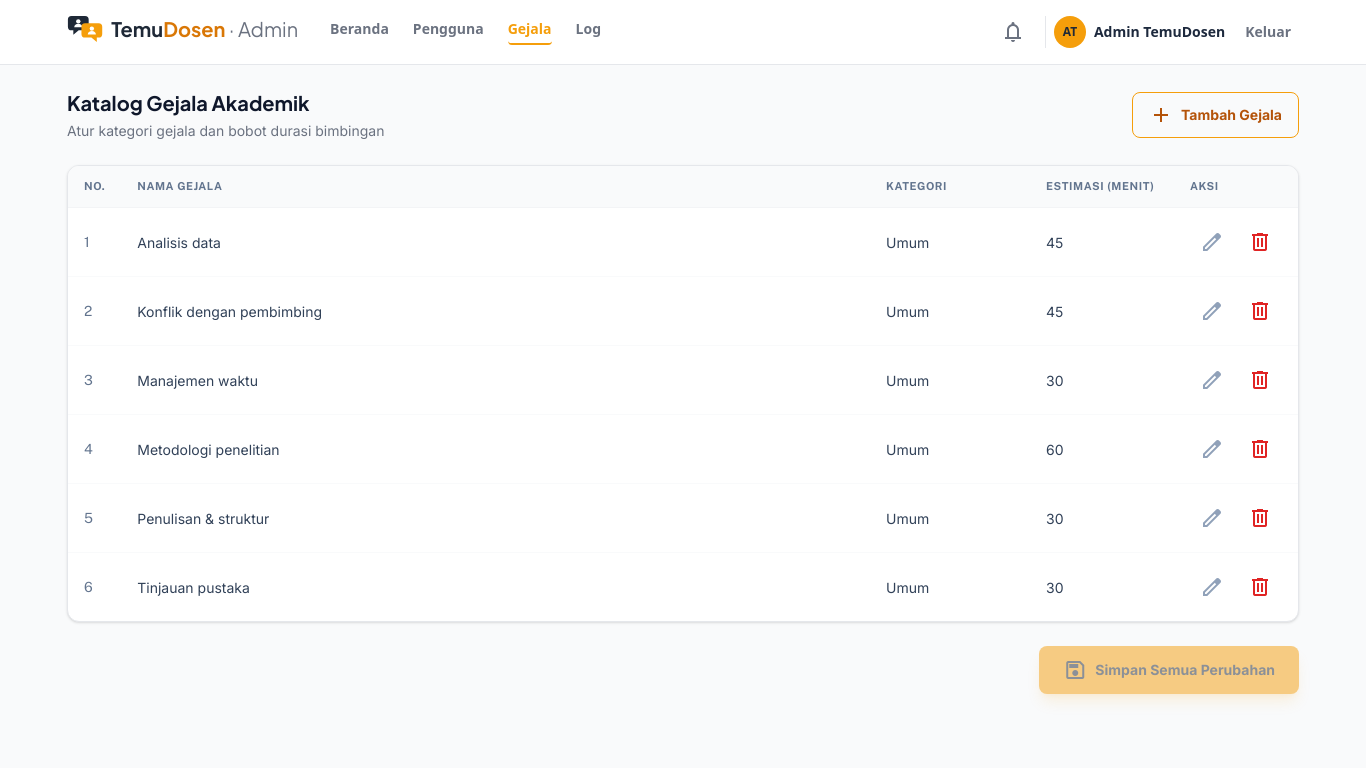
SymptomConfig (S-10) › shows the delete confirmation modal with exact copy when trash icon is clicked
Expected: the text "Analisis data" is shown, 137,234 -> 221,250
Click the button named "Hapus gejala" in the row of "Analisis data" at [1260, 242], box 1238,220 -> 1282,264
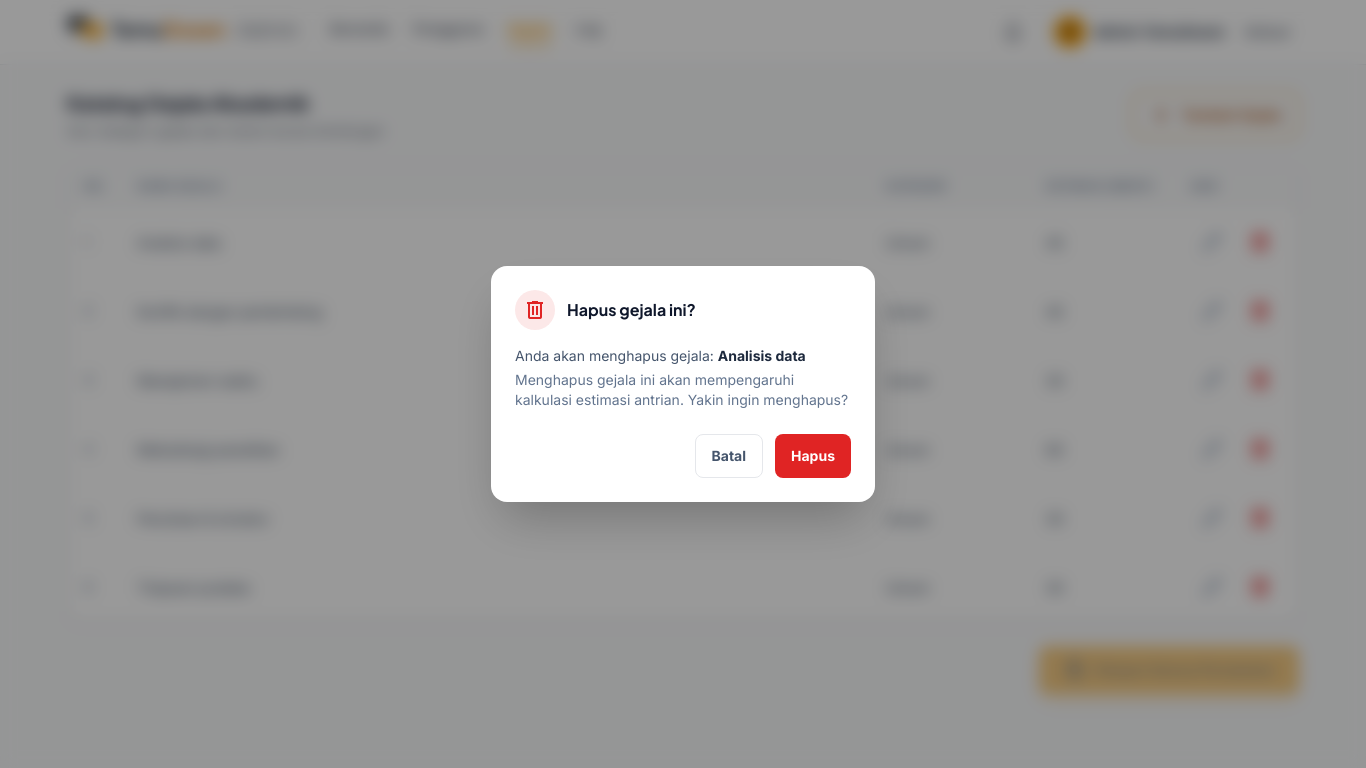
Expected: the heading "Hapus gejala ini?" is shown, 567,298 -> 696,322
Expected: the text "Menghapus gejala ini akan mempengaruhi kalkulasi estimasi antrian. Yakin ingin menghapus?" is shown, 515,371 -> 848,408
Expected: the button "Batal" is shown, 694,434 -> 763,478
